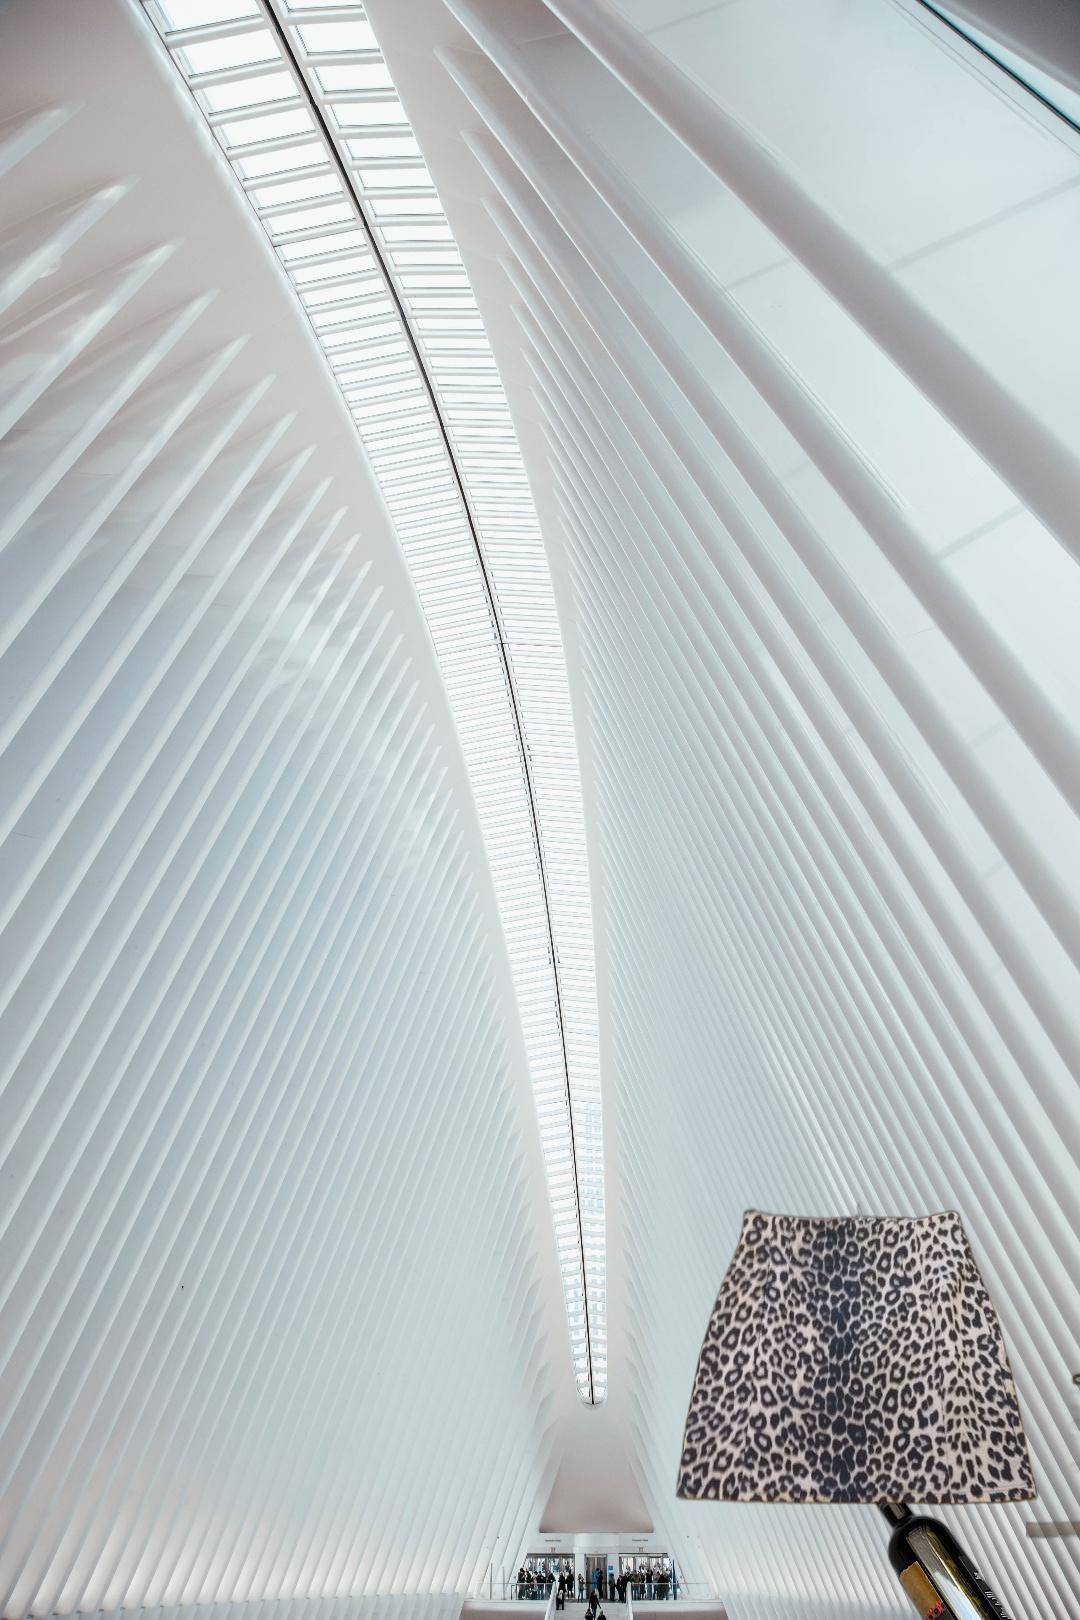clothes: (673, 1199, 1040, 1509)
glass: (853, 1455, 1052, 1620)
trashbox-cardboard: (1026, 1296, 1080, 1620)
